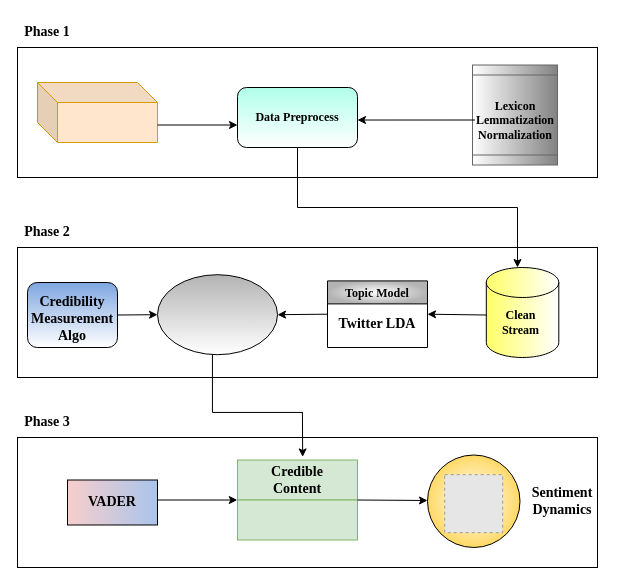
The diagram is 625 pixels wide and 585 high, and some of its shapes have lost their labels. Grey dashed boxes stand in for pictures. The box of each missing label's shape, as (x1, y1, x2, y2) in pixels:
Non-Credible Content: (236, 499, 358, 540)
Topical Expertise Score: (156, 274, 278, 355)
Twitter Look Up Rest API: (36, 82, 158, 142)
